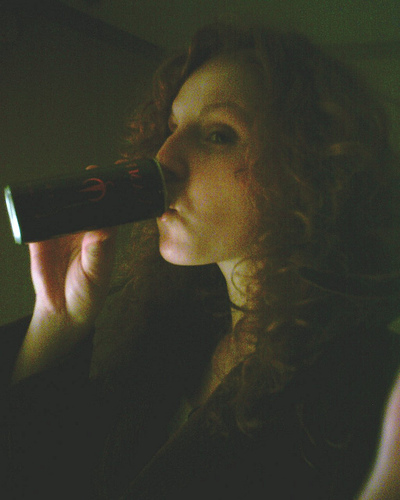without_mask: (142, 52, 321, 296)
